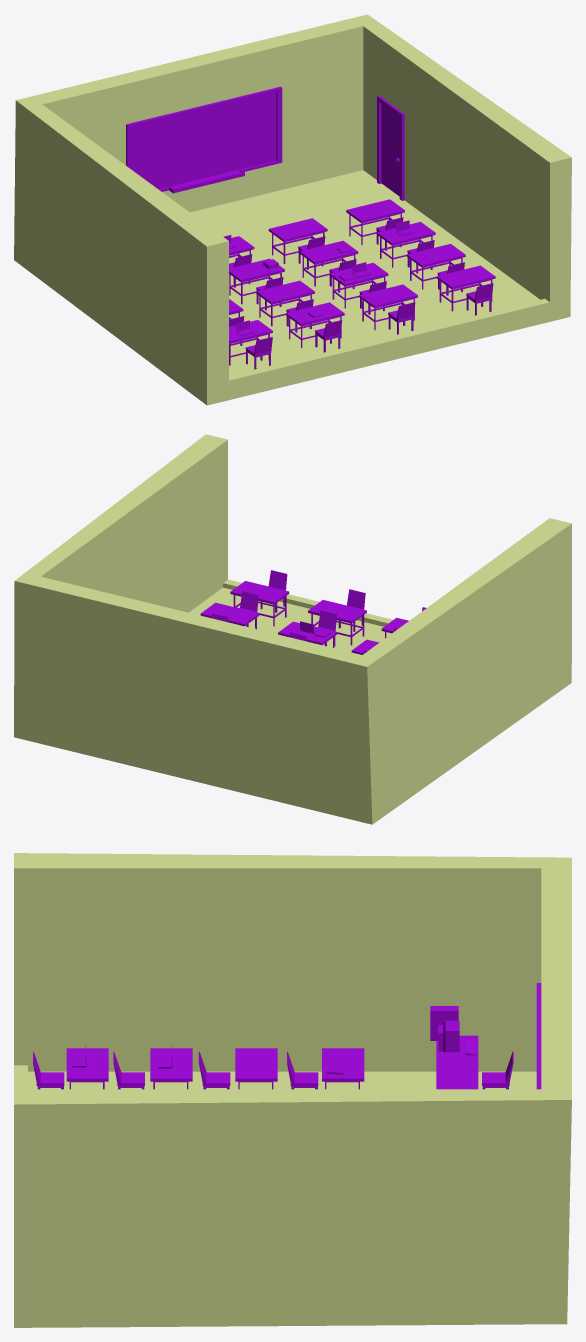
File: SalaDeAula.fbx
The picture shows the model from 3 angles, top to bottom: view 1: azimuth 30°, elevation 25°; view 2: azimuth 150°, elevation 25°; view 3: azimuth 270°, elevation 25°; orthographic projection. The views are drawn at different scales.
Parts seen in each view (by area): view 1: SalaAula, AssetsEscola.001; view 2: SalaAula, AssetsEscola.001; view 3: SalaAula, AssetsEscola.001.
Boxes of the visible parts, x1,y1,x2,y2 form: SalaAula: (14,14,571,405); AssetsEscola.001: (126,86,495,369); SalaAula: (14,434,571,824); AssetsEscola.001: (200,570,426,654); SalaAula: (14,853,571,1327); AssetsEscola.001: (33,983,541,1089).
Size of the model in its own units: 1027 by 427 by 963.
